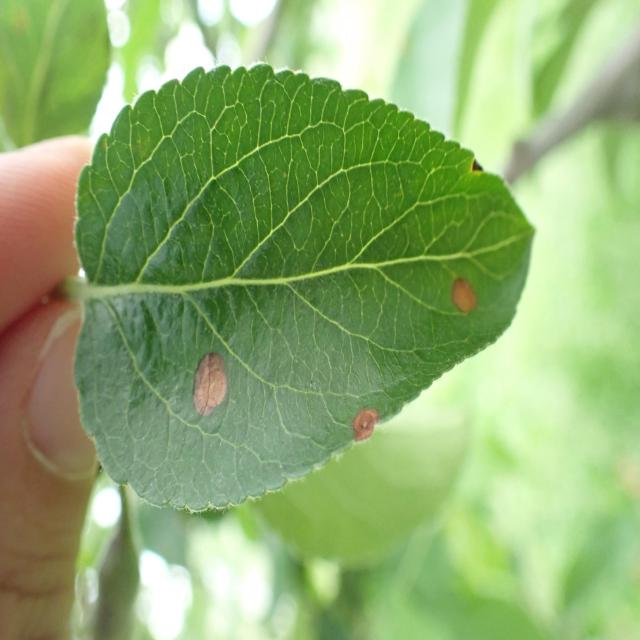Black Rot: (178, 338, 257, 431), (314, 390, 394, 458), (440, 269, 489, 329)
